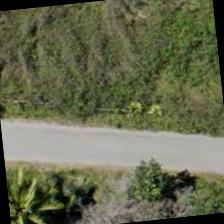Kelapa_Sawit: (5, 164, 65, 223)
